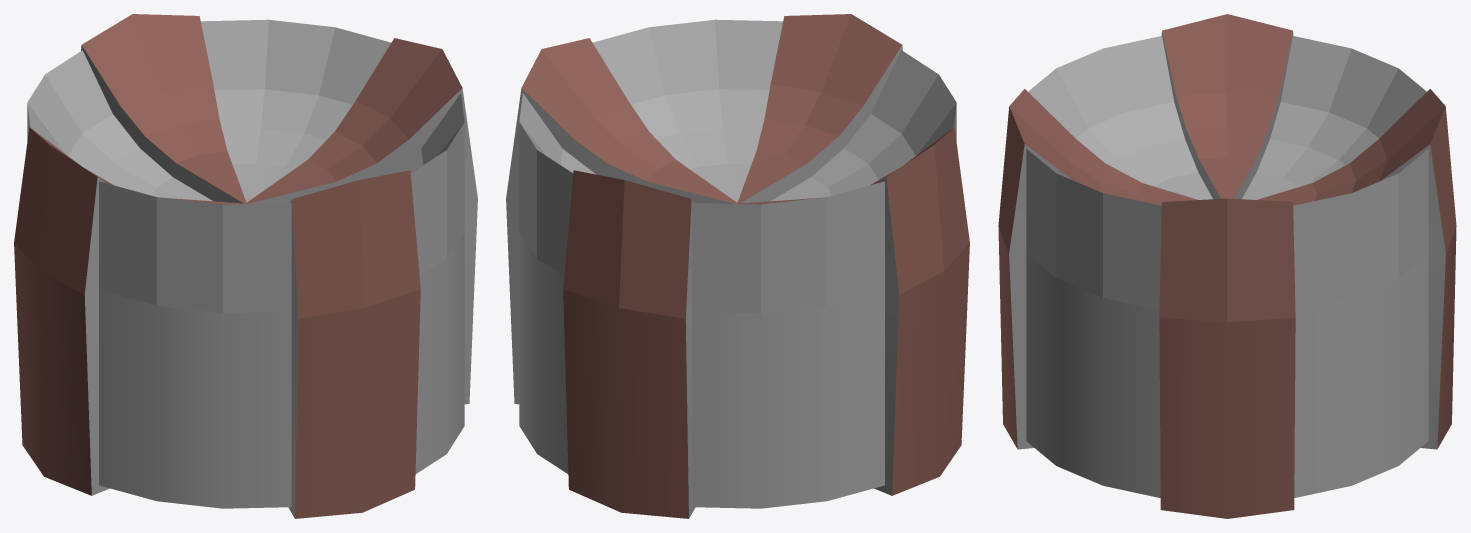
The model's file is Central Bumper.fbx.
3 renders of one model, left to right at view 1: azimuth 30°, elevation 25°; view 2: azimuth 150°, elevation 25°; view 3: azimuth 270°, elevation 25°, orthographic. The views are drawn at different scales.
Visible parts, largest first — view 1: pCylinder9; view 2: pCylinder9; view 3: pCylinder9.
Part boxes in pixels (x1,y1,x2,y2): pCylinder9: [14, 14, 477, 518]; pCylinder9: [506, 14, 969, 518]; pCylinder9: [998, 14, 1456, 518].
Bounding box in the file's own units: 0.1863 × 0.145 × 0.1863.
